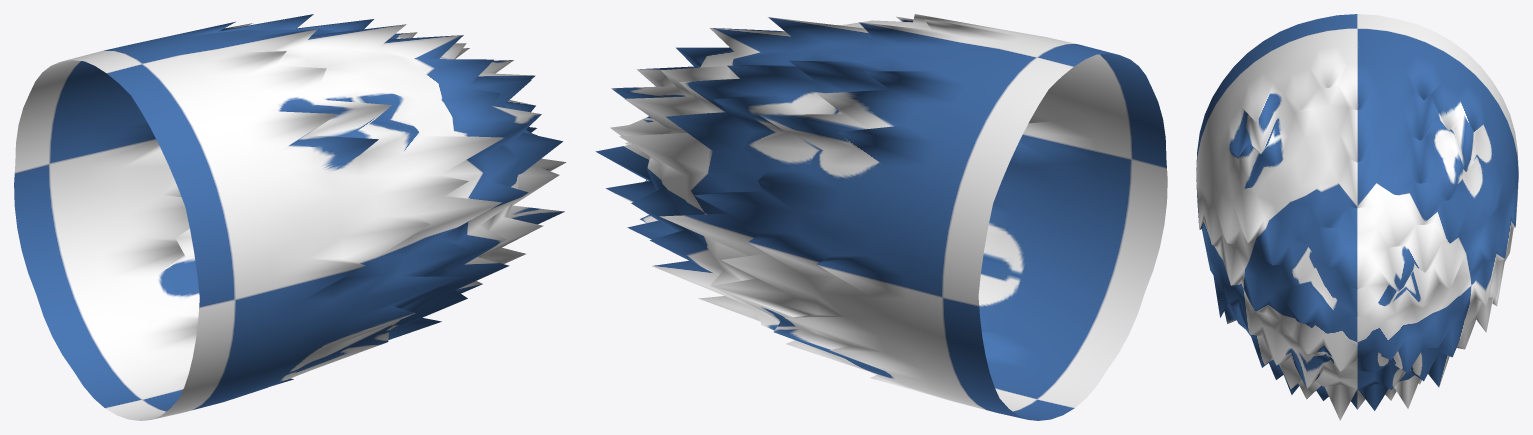
File: Smoke5.fbx
3 renders of one model, left to right at view 1: azimuth 30°, elevation 25°; view 2: azimuth 150°, elevation 25°; view 3: azimuth 270°, elevation 25°, orthographic. The views are drawn at different scales.
Parts seen in each view (by area): view 1: SM_e_cmn_Smoke005; view 2: SM_e_cmn_Smoke005; view 3: SM_e_cmn_Smoke005.
Part boxes in pixels (bbox=[...]): SM_e_cmn_Smoke005: bbox=[14, 14, 566, 420]; SM_e_cmn_Smoke005: bbox=[595, 14, 1167, 420]; SM_e_cmn_Smoke005: bbox=[1196, 14, 1518, 420].
Bounding box in the file's own units: 111 × 78.61 × 78.76.
